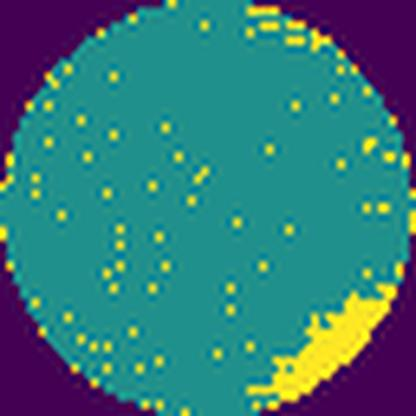Edge-Loc: (246, 276, 401, 412)
